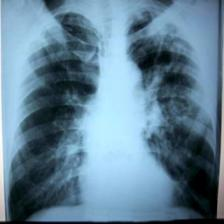tuberculosis: (5, 2, 218, 220)
